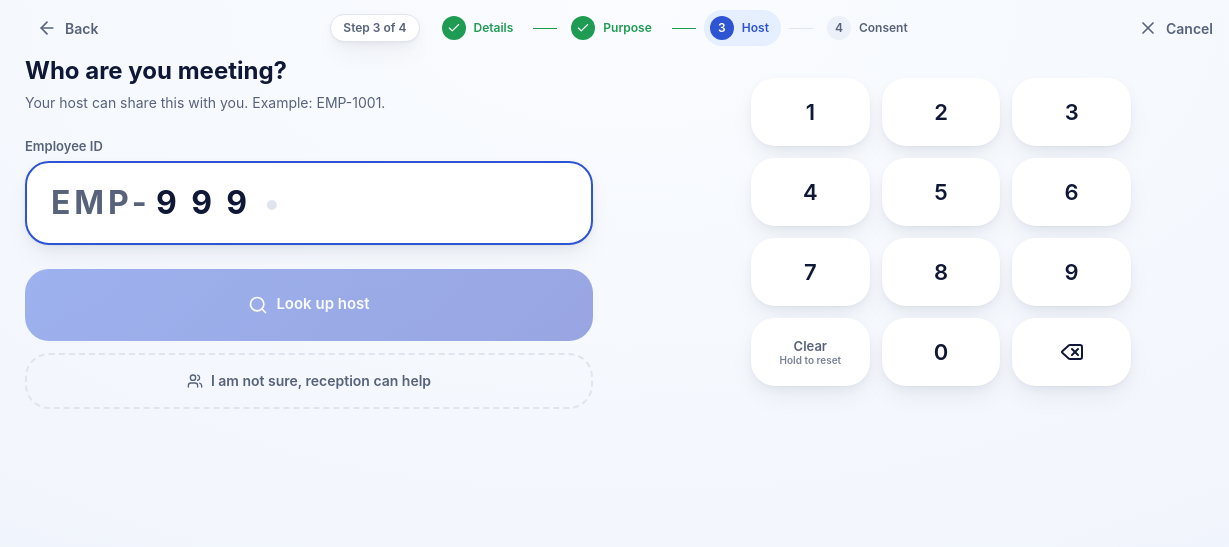
Kiosk Suite › shows calm error on invalid employee ID and pauses after 5 attempts
Earlier steps of the test are not shown.
Later steps or results of the test are not shown.
Click the button "9" at [1072, 272], box [1012,238,1131,306]
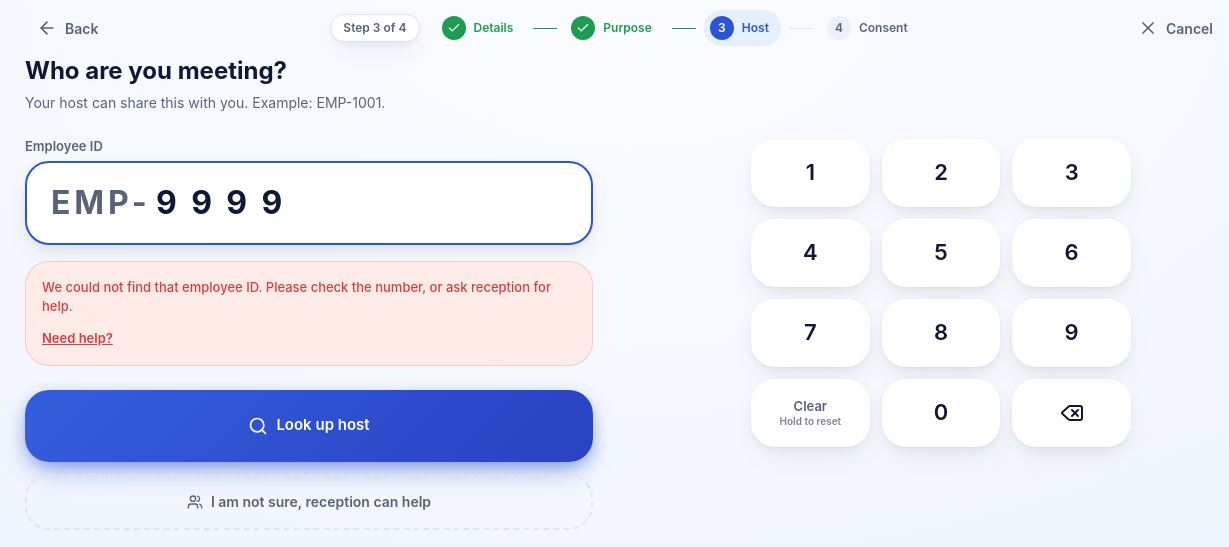
Expected: the text "We could not find that employee ID" is shown, [42,278,551,314]
Expected: the button "Need help?" is shown, [42,328,113,348]
Click the button "Clear Hold to reset" at [810, 413], box [751,379,870,447]
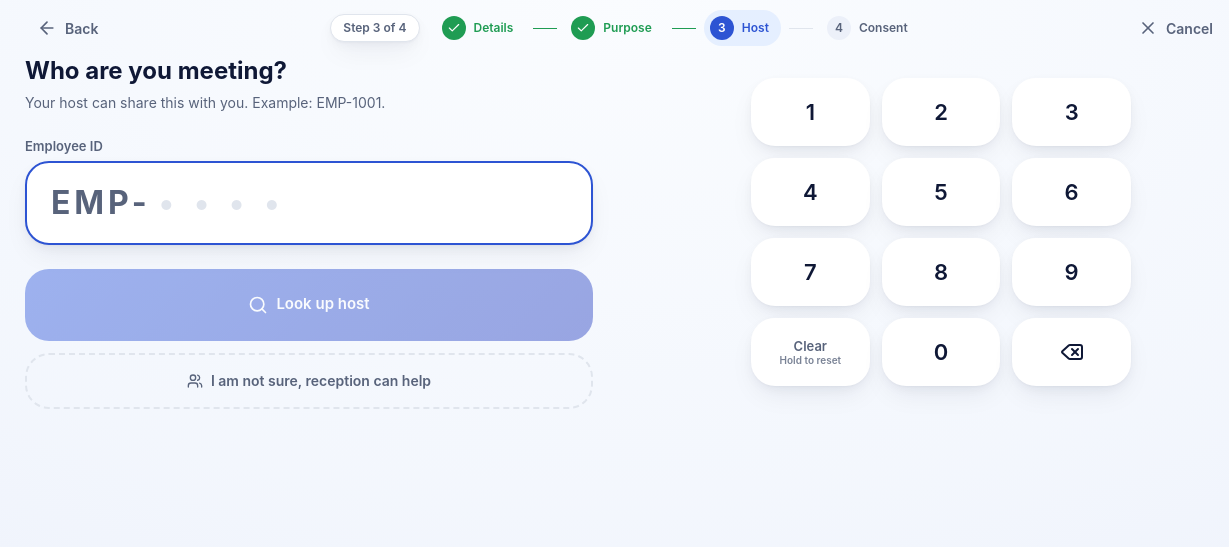
Click the button "9" at [1072, 272], box [1012,238,1131,306]
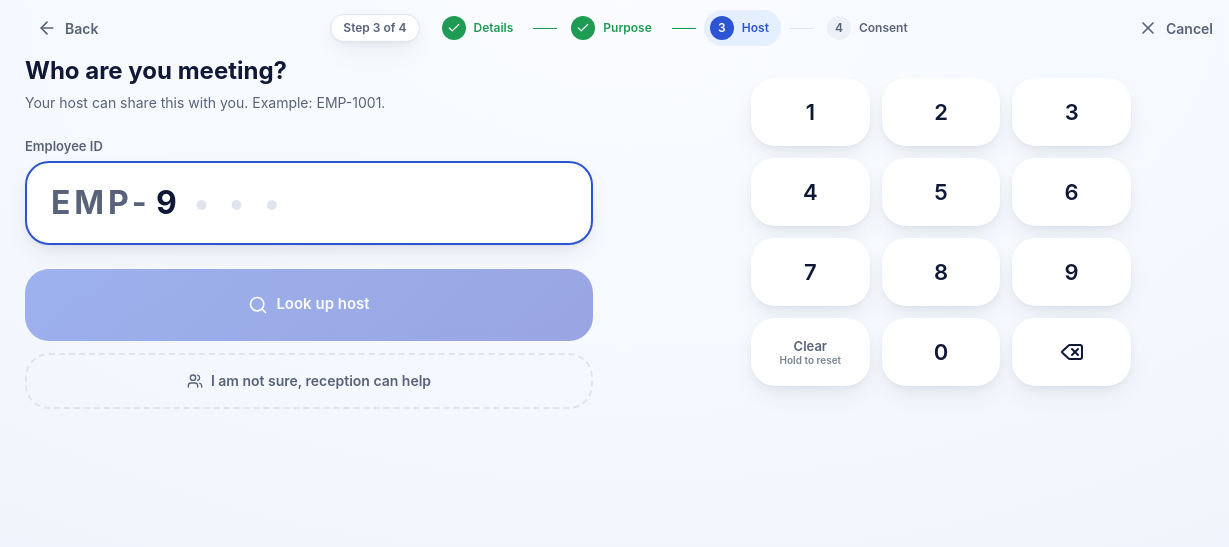
Click the button "9" at [1072, 272], box [1012,238,1131,306]
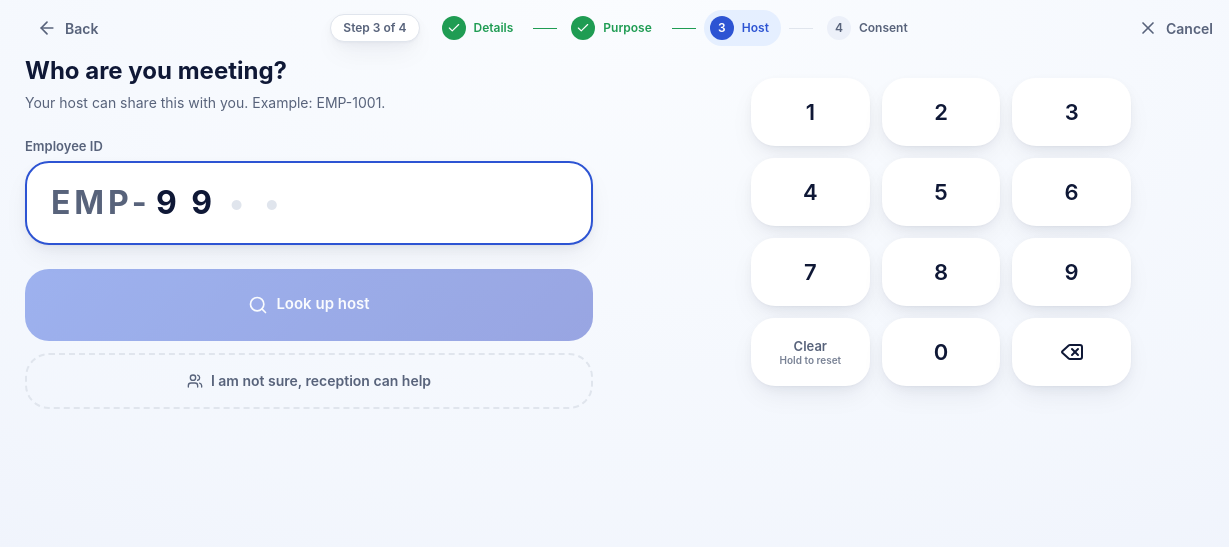
Click the button "9" at [1072, 272], box [1012,238,1131,306]
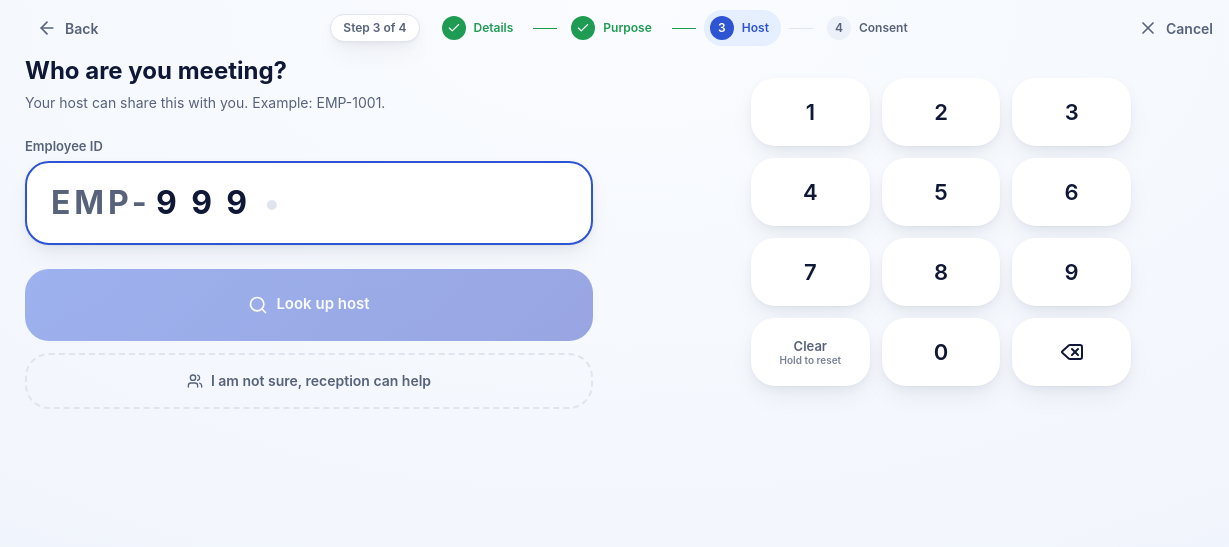
Click the button "9" at [1072, 272], box [1012,238,1131,306]
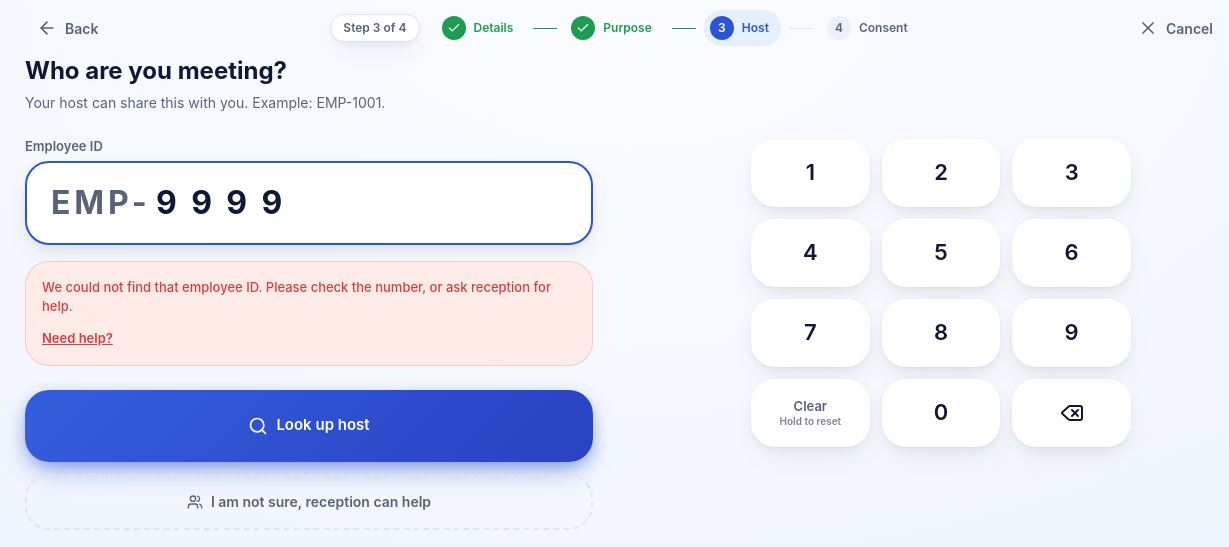
Expected: the text "We could not find that employee ID" is shown, [42,278,551,314]
